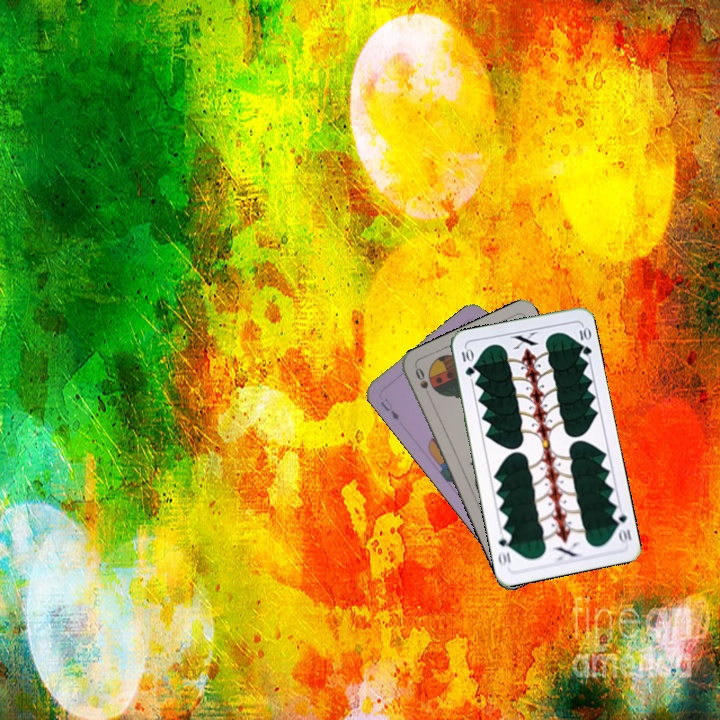EU: (376, 394, 402, 423)
G10: (609, 505, 634, 546), (457, 344, 477, 379)
SO: (411, 363, 434, 402)
